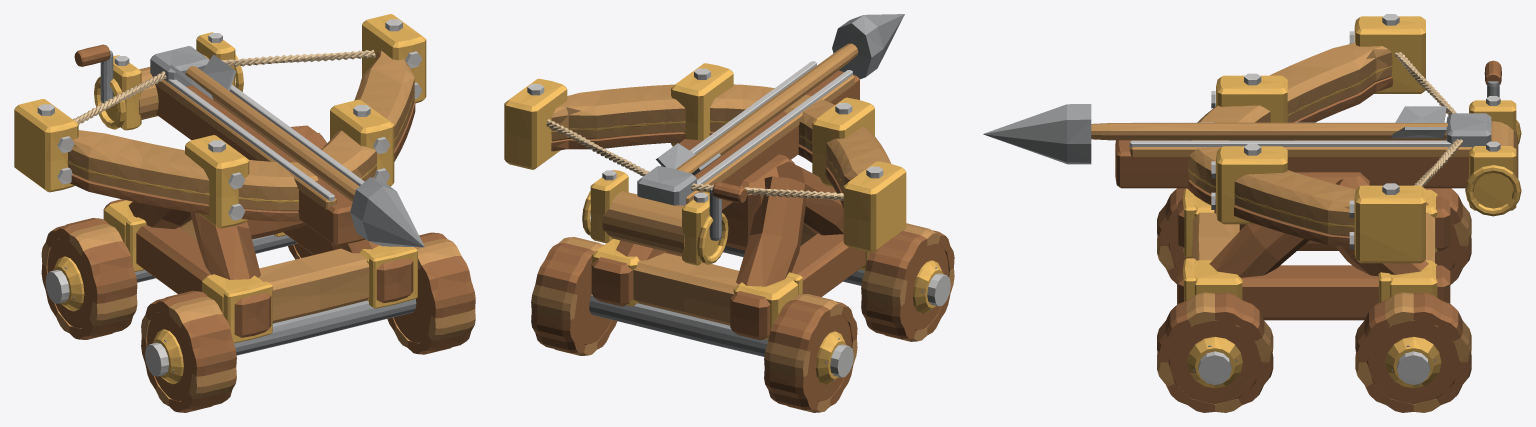
The model's file is fireballista.glb.
The picture shows the model from 3 angles, left to right: view 1: azimuth 30°, elevation 25°; view 2: azimuth 150°, elevation 25°; view 3: azimuth 270°, elevation 25°; orthographic projection. The views are drawn at different scales.
Visible parts, largest first — view 1: Fire Ballista — broad continuously curved upper laminate 1, Siege carriage — wheel 1 0.285 — source angular joined timbe (×6), Siege carriage — wheel 1 -0.285 — source angular joined timb (×6), Siege carriage — chamfered cross timber -0.28, Siege carriage — chamfered main timber 1, Siege carriage — wheel -1 -0.285 — source angular joined tim (×5), Fire Ballista — deep chamfered firing bed, Fire Ballista — broad continuously curved upper laminate -1, Fire Ballista — thick limb collar 1 1, Fire Ballista — long loaded bolt shaft, Siege carriage — physical axle -0.285, Fire Ballista — large physical steel bolt head (+35 smaller); view 2: Fire Ballista — broad continuously curved upper laminate -1, Siege carriage — wheel 1 0.285 — source angular joined timbe (×6), Siege carriage — chamfered cross timber 0.28, Ballista — rear timber brace 1, Siege carriage — wheel -1 0.285 — source angular joined timb (×5), Siege carriage — chamfered main timber 1, Siege carriage — wheel 1 -0.285 — source angular joined timb (×5), Fire Ballista — thick limb collar 1 1, Fire Ballista — thick limb collar -1 1, Fire Ballista — transverse winch barrel, Siege carriage — physical axle 0.285, Fire Ballista — long loaded bolt shaft (+31 smaller); view 3: Siege carriage — chamfered main timber -1, Fire Ballista — deep chamfered firing bed, Fire Ballista — broad continuously curved upper laminate -1, Fire Ballista — broad continuously curved upper laminate 1, Fire Ballista — long loaded bolt shaft, Fire Ballista — thick limb collar -1 1, Fire Ballista — large physical steel bolt head, Siege carriage — wheel -1 0.285 — source angular joined timb (×6), Siege carriage — wheel -1 -0.285 — chamfered inner timber di, Siege carriage — wheel -1 0.285 — chamfered inner timber dis, Siege carriage — wheel -1 -0.285 — source angular joined tim (×5), Fire Ballista — thick limb collar 1 1 (+28 smaller).
Part boxes in pixels (bbox=[...]): Fire Ballista — broad continuously curved upper laminate 1: bbox=[68, 130, 318, 211]; Siege carriage — wheel 1 0.285 — source angular joined timbe (×6): bbox=[56, 218, 137, 337]; Siege carriage — wheel 1 -0.285 — source angular joined timb (×6): bbox=[155, 290, 236, 410]; Siege carriage — chamfered cross timber -0.28: bbox=[258, 248, 369, 323]; Siege carriage — chamfered main timber 1: bbox=[103, 199, 271, 337]; Siege carriage — wheel -1 -0.285 — source angular joined tim (×5): bbox=[414, 238, 475, 351]; Fire Ballista — deep chamfered firing bed: bbox=[155, 84, 365, 245]; Fire Ballista — broad continuously curved upper laminate -1: bbox=[321, 50, 414, 181]; Fire Ballista — thick limb collar 1 1: bbox=[14, 99, 78, 192]; Fire Ballista — long loaded bolt shaft: bbox=[185, 66, 359, 201]; Siege carriage — physical axle -0.285: bbox=[234, 299, 416, 355]; Fire Ballista — large physical steel bolt head: bbox=[350, 177, 424, 247]; Fire Ballista — broad continuously curved upper laminate -1: bbox=[551, 84, 774, 141]; Siege carriage — wheel 1 0.285 — source angular joined timbe (×6): bbox=[764, 294, 843, 410]; Siege carriage — chamfered cross timber 0.28: bbox=[633, 253, 739, 325]; Ballista — rear timber brace 1: bbox=[736, 176, 805, 286]; Siege carriage — wheel -1 0.285 — source angular joined timb (×5): bbox=[531, 243, 594, 353]; Siege carriage — chamfered main timber 1: bbox=[730, 233, 865, 340]; Siege carriage — wheel 1 -0.285 — source angular joined timb (×5): bbox=[861, 231, 927, 339]; Fire Ballista — thick limb collar 1 1: bbox=[843, 161, 906, 252]; Fire Ballista — thick limb collar -1 1: bbox=[504, 78, 567, 169]; Fire Ballista — transverse winch barrel: bbox=[602, 191, 684, 255]; Siege carriage — physical axle 0.285: bbox=[589, 294, 768, 356]; Fire Ballista — long loaded bolt shaft: bbox=[676, 43, 858, 174]; Siege carriage — chamfered main timber -1: bbox=[1177, 265, 1450, 320]; Fire Ballista — deep chamfered firing bed: bbox=[1115, 140, 1468, 188]; Fire Ballista — broad continuously curved upper laminate -1: bbox=[1188, 140, 1355, 236]; Fire Ballista — broad continuously curved upper laminate 1: bbox=[1189, 43, 1392, 140]; Fire Ballista — long loaded bolt shaft: bbox=[1091, 122, 1447, 140]; Fire Ballista — thick limb collar -1 1: bbox=[1354, 185, 1425, 263]; Fire Ballista — large physical steel bolt head: bbox=[983, 104, 1091, 164]; Siege carriage — wheel -1 0.285 — source angular joined timb (×6): bbox=[1355, 292, 1471, 362]; Siege carriage — wheel -1 -0.285 — chamfered inner timber di: bbox=[1168, 320, 1261, 403]; Siege carriage — wheel -1 0.285 — chamfered inner timber dis: bbox=[1367, 320, 1459, 403]; Siege carriage — wheel -1 -0.285 — source angular joined tim (×5): bbox=[1165, 292, 1273, 362]; Fire Ballista — thick limb collar 1 1: bbox=[1354, 16, 1425, 93].
Size of the model in its own units: 1.26 by 0.7774 by 1.55.
